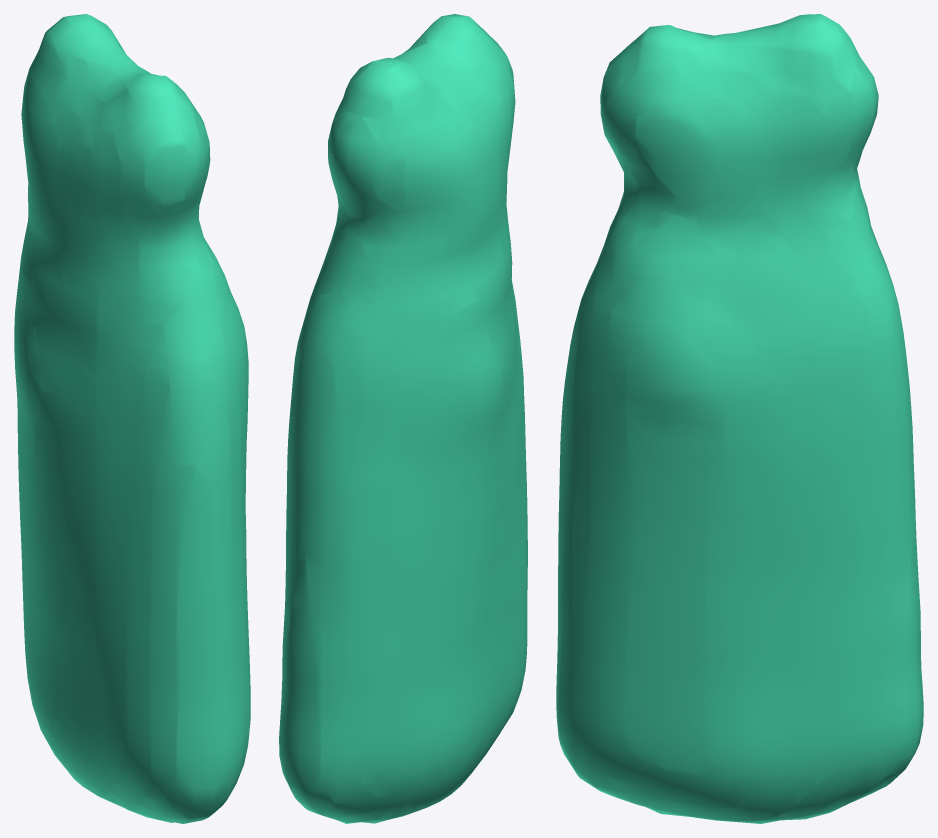
3 views of the same model, side by side, from view 1: azimuth 30°, elevation 25°; view 2: azimuth 150°, elevation 25°; view 3: azimuth 270°, elevation 25° (orthographic). The views are drawn at different scales.
Visible parts, largest first — view 1: Liquid_Domain; view 2: Liquid_Domain; view 3: Liquid_Domain.
Part boxes in pixels (box(x1,y1,x2,y2)): Liquid_Domain: box(14, 14, 250, 823); Liquid_Domain: box(279, 14, 527, 823); Liquid_Domain: box(556, 14, 923, 823).
Size of the model in its own units: 1.44 by 5.79 by 2.47.
